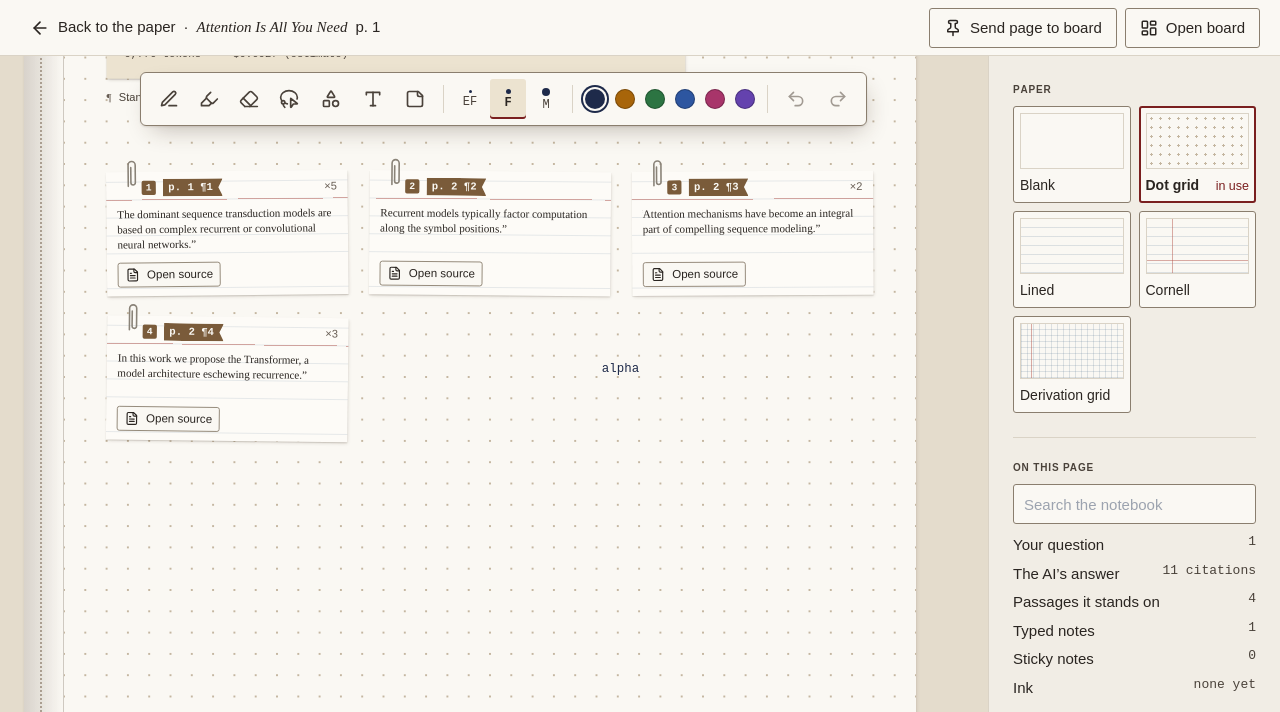
Test: what cannot be saved › a 422 after a network failure is said once, and Try again stops offering it
(page scrolled)
Press ArrowLeft in the button with aria-label "Typed note: alpha", box [602,361,639,375]
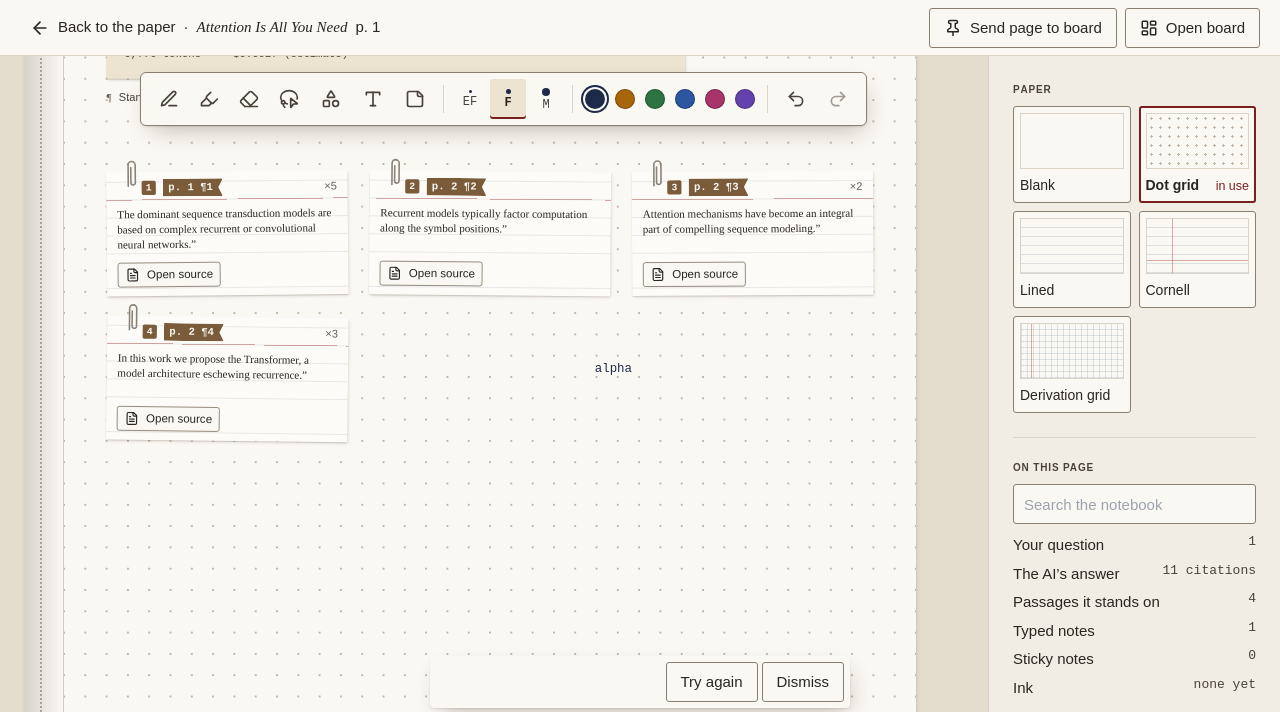
Click the button "Try again": [712, 682] box [666,662,758,702]
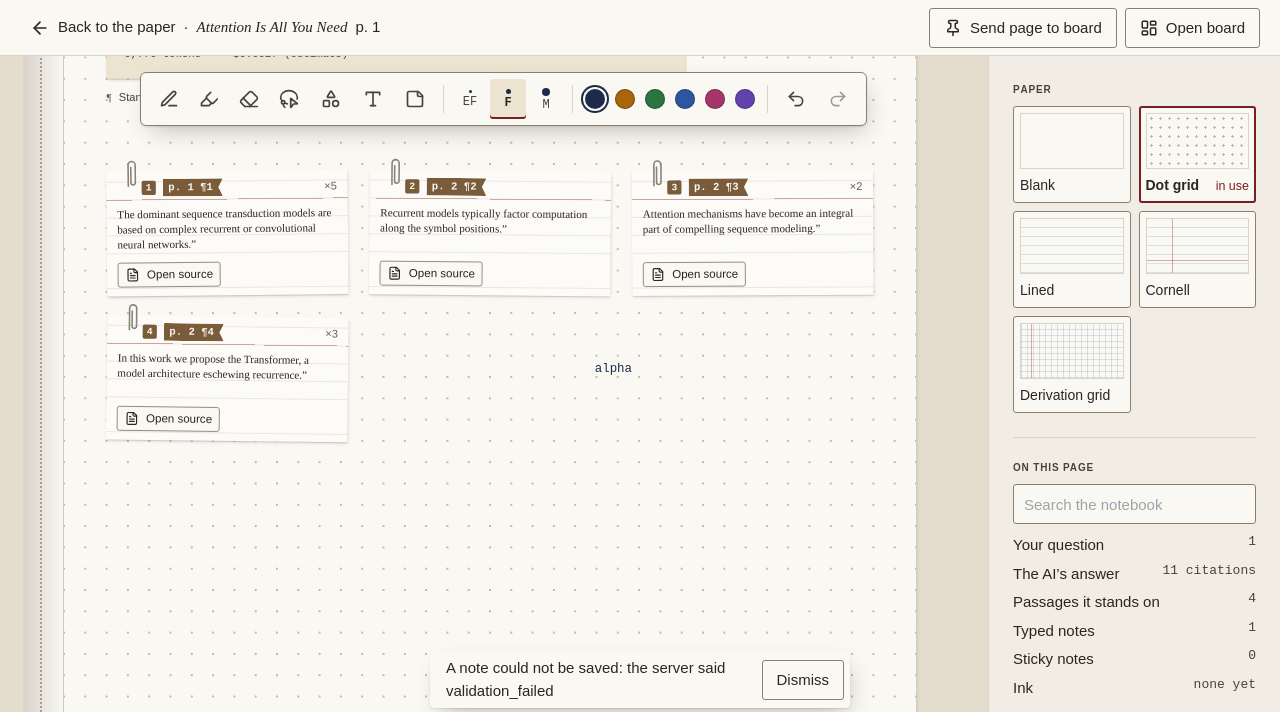
Result: the text "A note could not be saved: the server said validation_failed" is shown at [446,657,758,702]
Result: the button "Try again" is gone
